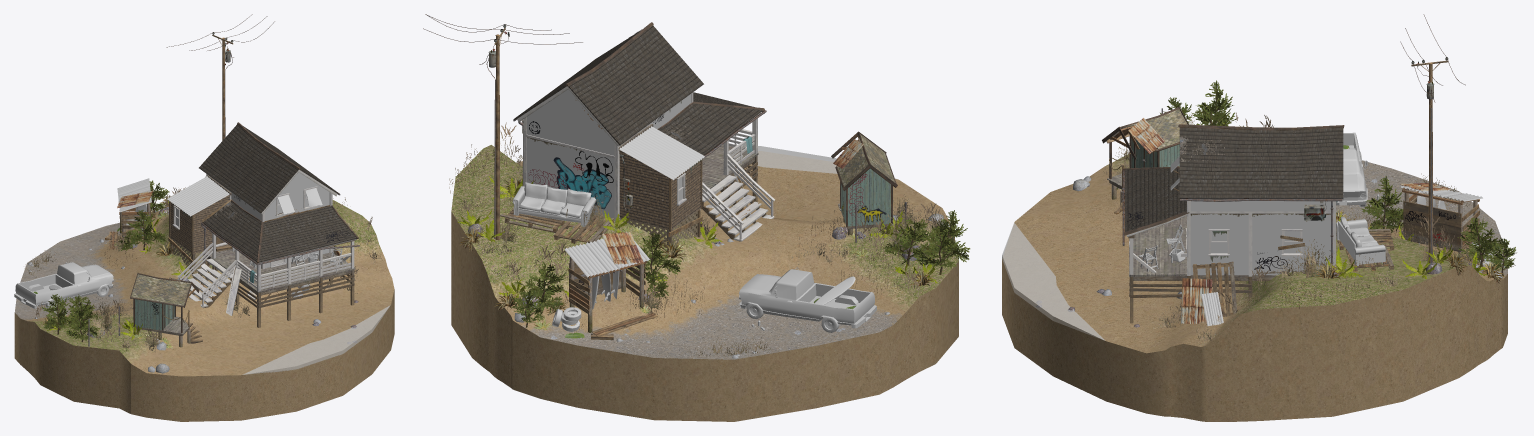
File: finalSave.fbx
3 views of the same model, side by side, from view 1: azimuth 30°, elevation 25°; view 2: azimuth 150°, elevation 25°; view 3: azimuth 270°, elevation 25° (orthographic). The views are drawn at different scales.
Visible parts, largest first — view 1: polySurface50, polySurface173, polySurface170, polySurface158, polySurface52, polySurface294, g_pine05, polySurface124, g_pine, g_pine02, g_pine01, g_smilgas11 (+2 smaller); view 2: polySurface50, polySurface173, polySurface158, polySurface294, polySurface170, model_coush, polySurface124, g_smilgas11, polySurface52, g_pine, polySurface299, G_paparde7 (+8 smaller); view 3: polySurface50, polySurface173, polySurface52, polySurface170, polySurface294, model_coush, polySurface158, polySurface124, g_pine05, polySurface293, g_pine03, g_palette03 (+7 smaller).
Part boxes in pixels (box(x1,y1,x2,y2)): polySurface50: box(14, 200, 394, 421); polySurface173: box(167, 122, 359, 327); polySurface170: box(130, 273, 202, 347); polySurface158: box(14, 261, 113, 310); polySurface52: box(242, 305, 390, 374); polySurface294: box(108, 178, 153, 249); g_pine05: box(127, 210, 166, 249); polySurface124: box(166, 14, 274, 140); g_pine: box(41, 294, 79, 334); g_pine02: box(65, 311, 100, 341); g_pine01: box(67, 294, 102, 327); g_smilgas11: box(35, 187, 373, 345); polySurface50: box(451, 145, 958, 421); polySurface173: box(513, 22, 774, 251); polySurface158: box(739, 267, 876, 332); polySurface294: box(564, 231, 657, 336); polySurface170: box(831, 131, 897, 235); model_coush: box(512, 182, 596, 226); polySurface124: box(423, 14, 582, 240); g_smilgas11: box(500, 122, 942, 297); polySurface52: box(746, 146, 896, 179); g_pine: box(913, 220, 970, 274); polySurface299: box(553, 157, 611, 209); G_paparde7: box(478, 176, 913, 248); polySurface50: box(1002, 154, 1507, 421); polySurface173: box(1122, 124, 1344, 323); polySurface52: box(1002, 223, 1104, 340); polySurface170: box(1102, 106, 1188, 214); polySurface294: box(1399, 183, 1482, 257); model_coush: box(1336, 216, 1385, 265); polySurface158: box(1336, 132, 1367, 206); polySurface124: box(1400, 14, 1465, 262); g_pine05: box(1360, 175, 1403, 232); polySurface293: box(1181, 278, 1212, 323); g_pine03: box(1457, 217, 1504, 266); g_palette03: box(1192, 261, 1236, 316).
Size of the model in its own units: 2414 by 1621 by 2381.
